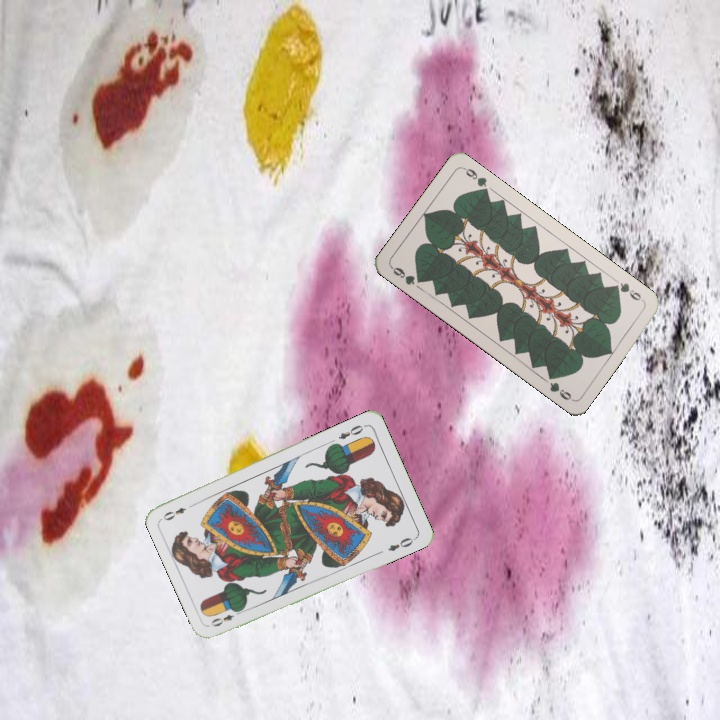EO: (207, 606, 245, 629), (334, 420, 368, 442)
G9: (608, 278, 647, 304), (387, 263, 426, 288)
